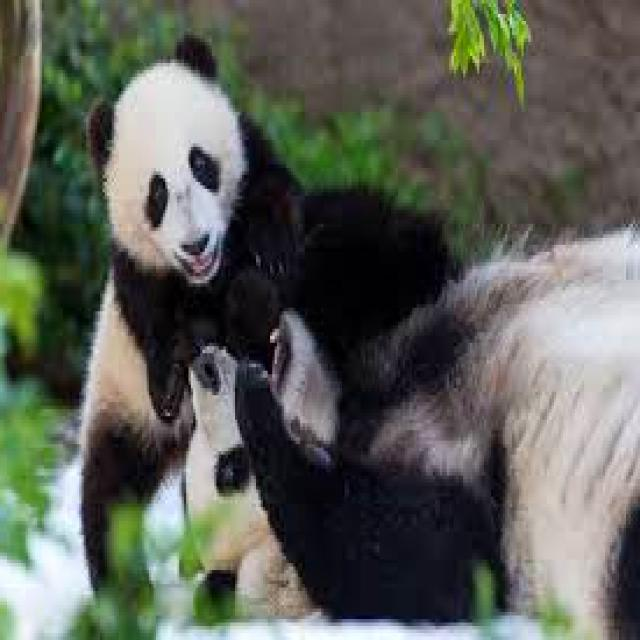panda: (189, 189, 640, 637), (84, 35, 300, 574)
